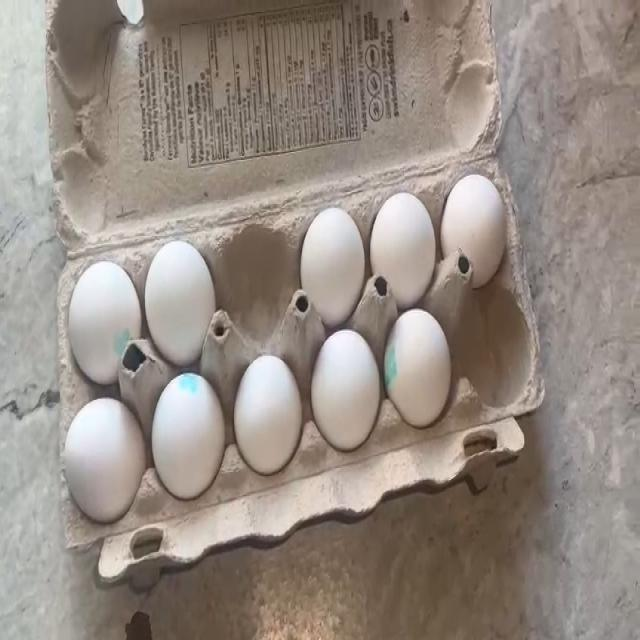Egg: (156, 390, 224, 491), (66, 401, 130, 508), (66, 261, 132, 360), (145, 238, 206, 342), (318, 345, 378, 442), (373, 193, 433, 288), (240, 370, 300, 464), (304, 216, 361, 309), (392, 314, 448, 398), (446, 182, 503, 264)
